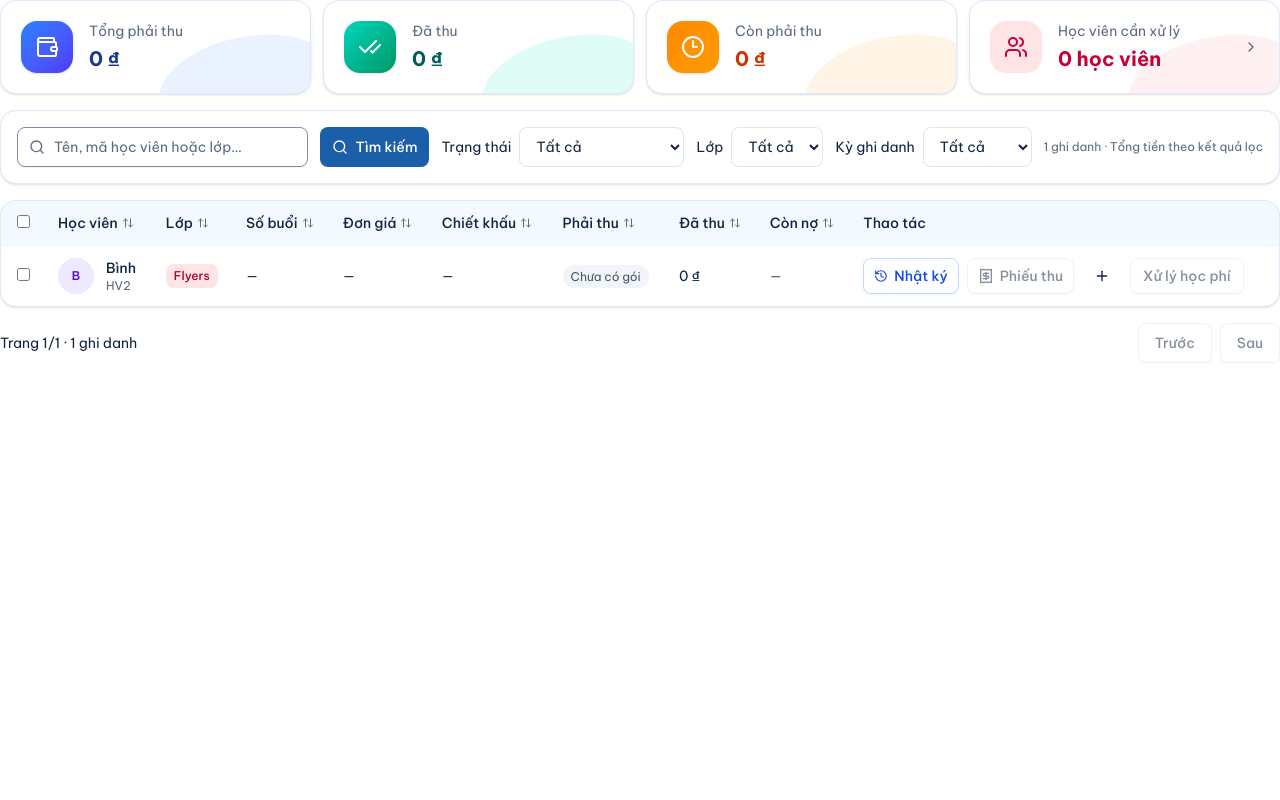
Test: opens an empty money card and preserves the table when the popup closes
The width and height of the screenshot is (1280, 800).
Click the button "Đã thu 0 ₫" at (478, 47), box [323,0,634,94]
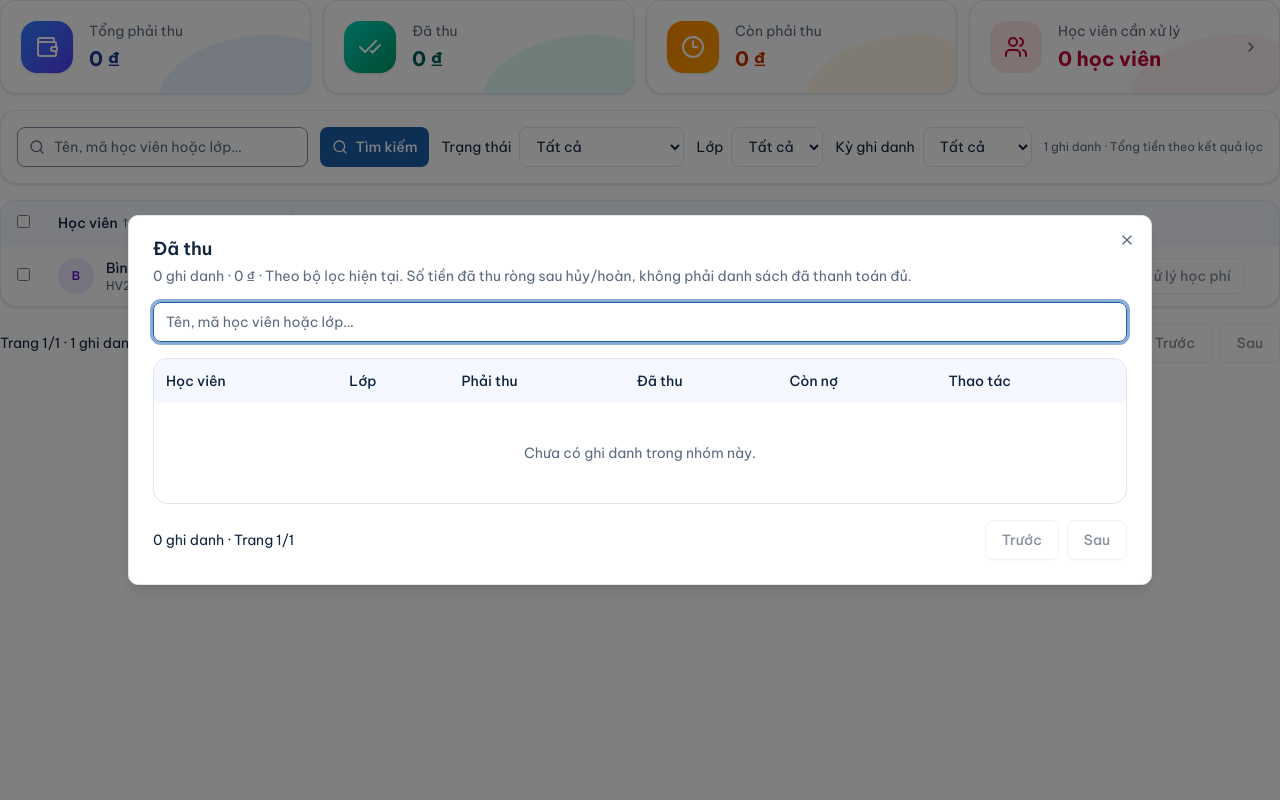
Result: the text "Chưa có ghi danh trong nhóm này." is shown at [524,444,756,462]
Click the button named "Close" at (1127, 240), box [1119,232,1135,248]
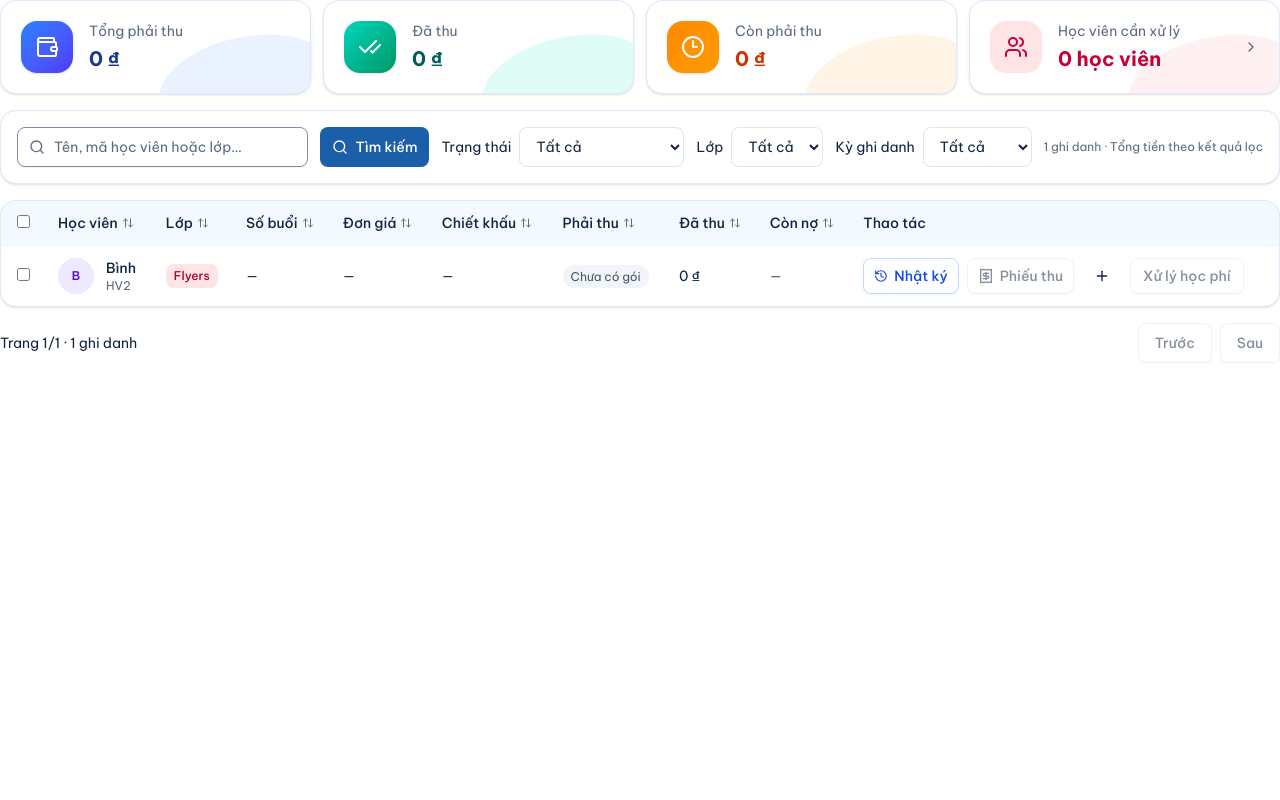
Expected: the text "Bình" is shown, [106,258,136,278]
Result: the dialog is gone
